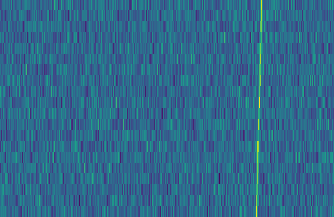signal: (253, 0, 268, 217)
